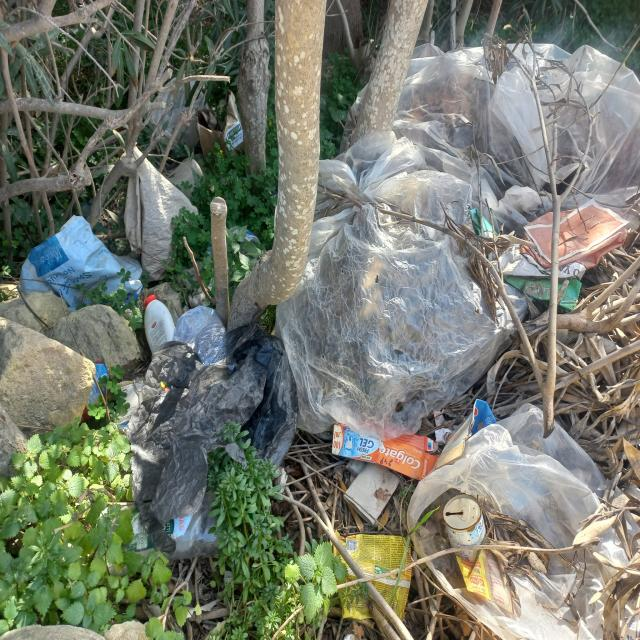Bottle: (104, 489, 223, 584), (172, 305, 227, 366), (142, 294, 175, 356), (230, 226, 261, 264)
Can: (443, 494, 488, 559)
Carton: (124, 145, 198, 281), (522, 200, 627, 272), (332, 421, 441, 482), (435, 399, 497, 470), (343, 457, 401, 525), (195, 90, 243, 159), (504, 274, 582, 311), (81, 358, 113, 421), (115, 379, 143, 430)
Other litter: (488, 237, 587, 280), (144, 294, 175, 354)
Other plastic: (17, 213, 141, 311), (455, 550, 491, 601), (167, 158, 203, 197), (470, 204, 502, 237)
Plastic bag - wrapper: (273, 132, 531, 441), (345, 43, 640, 230), (407, 404, 640, 640), (119, 324, 299, 554), (332, 528, 413, 621), (150, 73, 204, 154)
